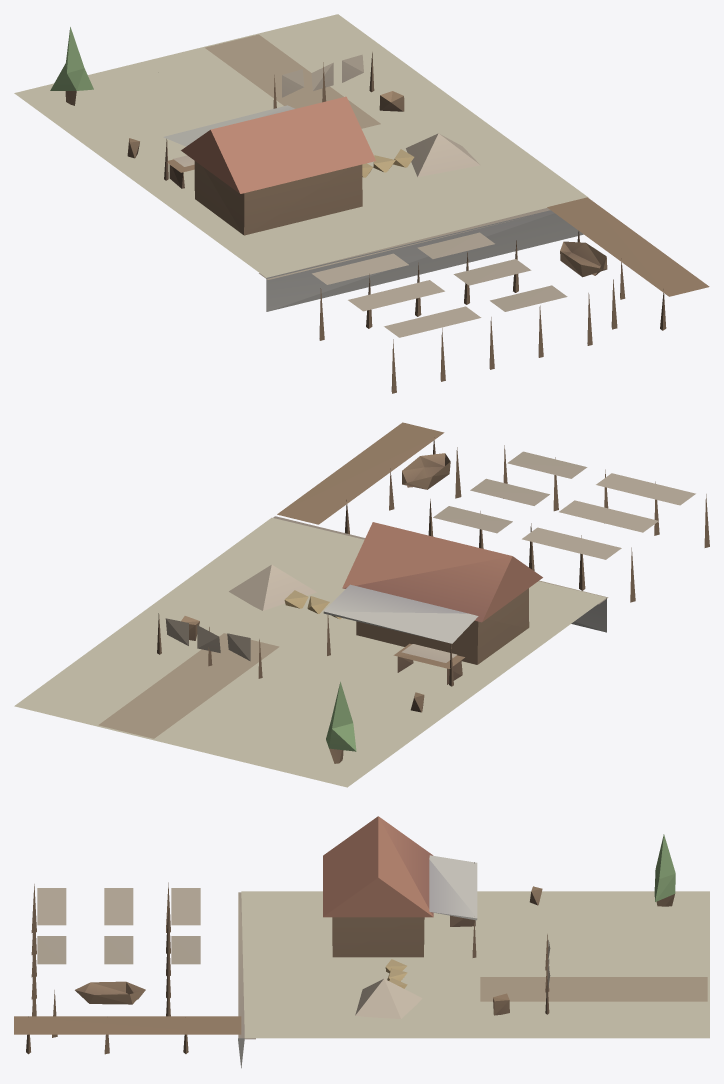
File: oyster_beds.lite.glb
3 views of the same model, one above another, from view 1: azimuth 30°, elevation 25°; view 2: azimuth 150°, elevation 25°; view 3: azimuth 270°, elevation 25° (orthographic). The views are drawn at different scales.
Parts seen in each view (by area): view 1: oyster_beds; view 2: oyster_beds; view 3: oyster_beds.
Part boxes in pixels (x1=…): oyster_beds: x1=14, y1=14, x2=709, y2=393; oyster_beds: x1=14, y1=422, x2=709, y2=787; oyster_beds: x1=14, y1=816, x2=709, y2=1068.
Size of the model in its own units: 5.96 by 2.22 by 11.94.
